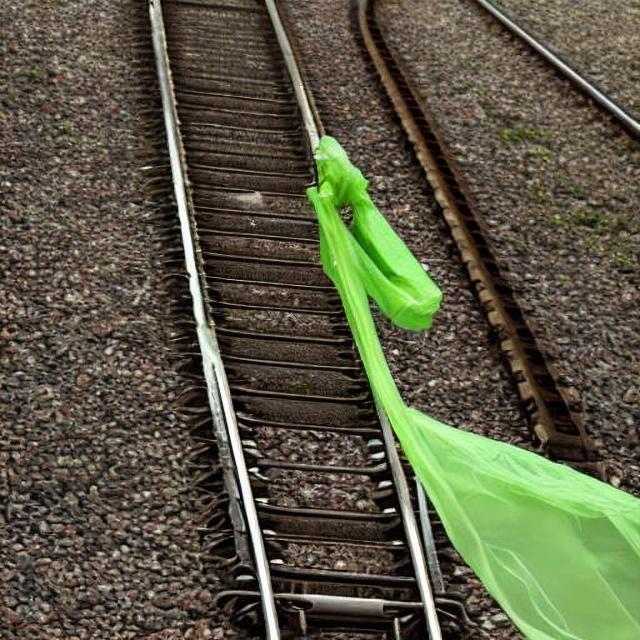floating object: (263, 108, 640, 638)
